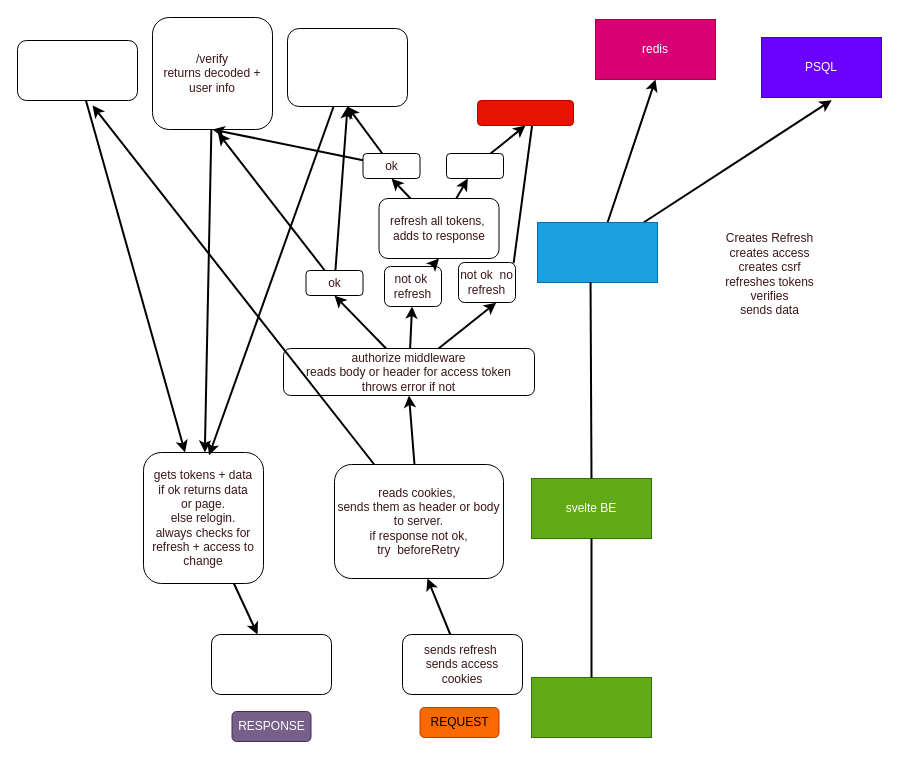
The diagram is 899 pixels wide and 759 high, and some of its shapes have lost their labels. Here are the shapes that lost their labels. From the top down, the box of each, then its label:
(16, 40, 138, 100): /refresh refresh all tokens + csrf
(286, 28, 408, 106): /tours returns data
(476, 100, 574, 126): unauthorized
(446, 152, 504, 178): not ok
(536, 222, 658, 282): fastify BE
(210, 634, 332, 694): gets data
(530, 676, 652, 738): svelte FE
